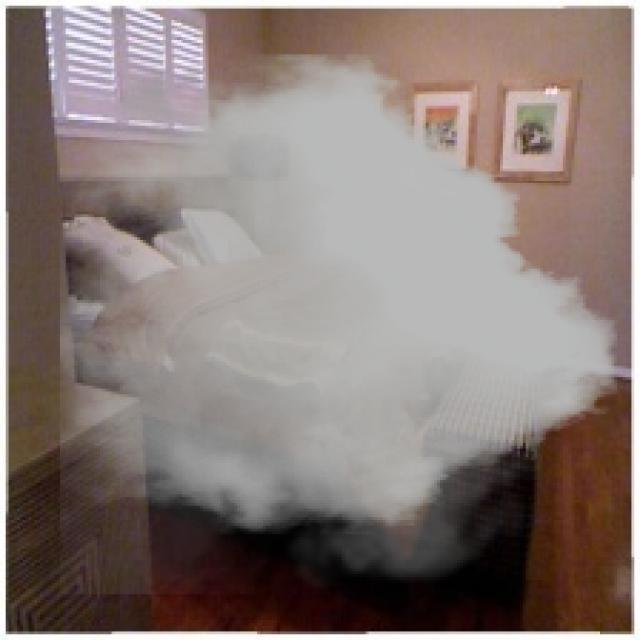Smoke: (60, 46, 617, 594)
